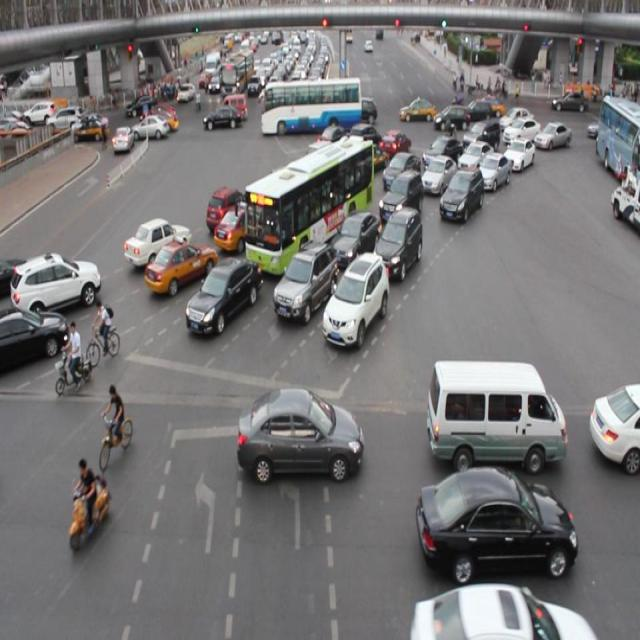car: (415, 465, 575, 580), (237, 386, 362, 476), (411, 583, 595, 640), (323, 251, 388, 344), (184, 258, 264, 331), (11, 252, 100, 315), (273, 242, 337, 321), (588, 382, 640, 471), (145, 237, 217, 292), (1, 309, 67, 368), (214, 198, 281, 250), (372, 208, 421, 278), (124, 218, 190, 268), (275, 176, 332, 222), (332, 212, 378, 266), (205, 186, 258, 231), (438, 168, 482, 221), (260, 166, 312, 209), (378, 170, 422, 220), (317, 153, 365, 197), (422, 134, 464, 184), (382, 152, 421, 196), (501, 116, 540, 155), (422, 156, 458, 198), (457, 142, 493, 182), (346, 125, 382, 163), (476, 153, 509, 194), (351, 138, 388, 173), (461, 120, 498, 155), (1, 259, 33, 296), (502, 136, 532, 173), (316, 126, 350, 158), (378, 130, 410, 160)
truck: (426, 359, 565, 471), (299, 142, 349, 182)
van: (245, 137, 372, 279)
